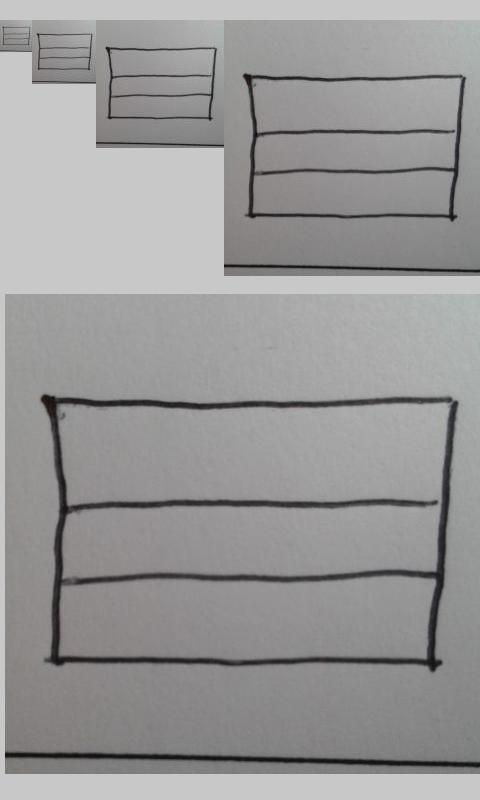list_view: (43, 395, 459, 668), (245, 72, 466, 221), (106, 46, 218, 120), (37, 33, 93, 70), (2, 26, 31, 46)
